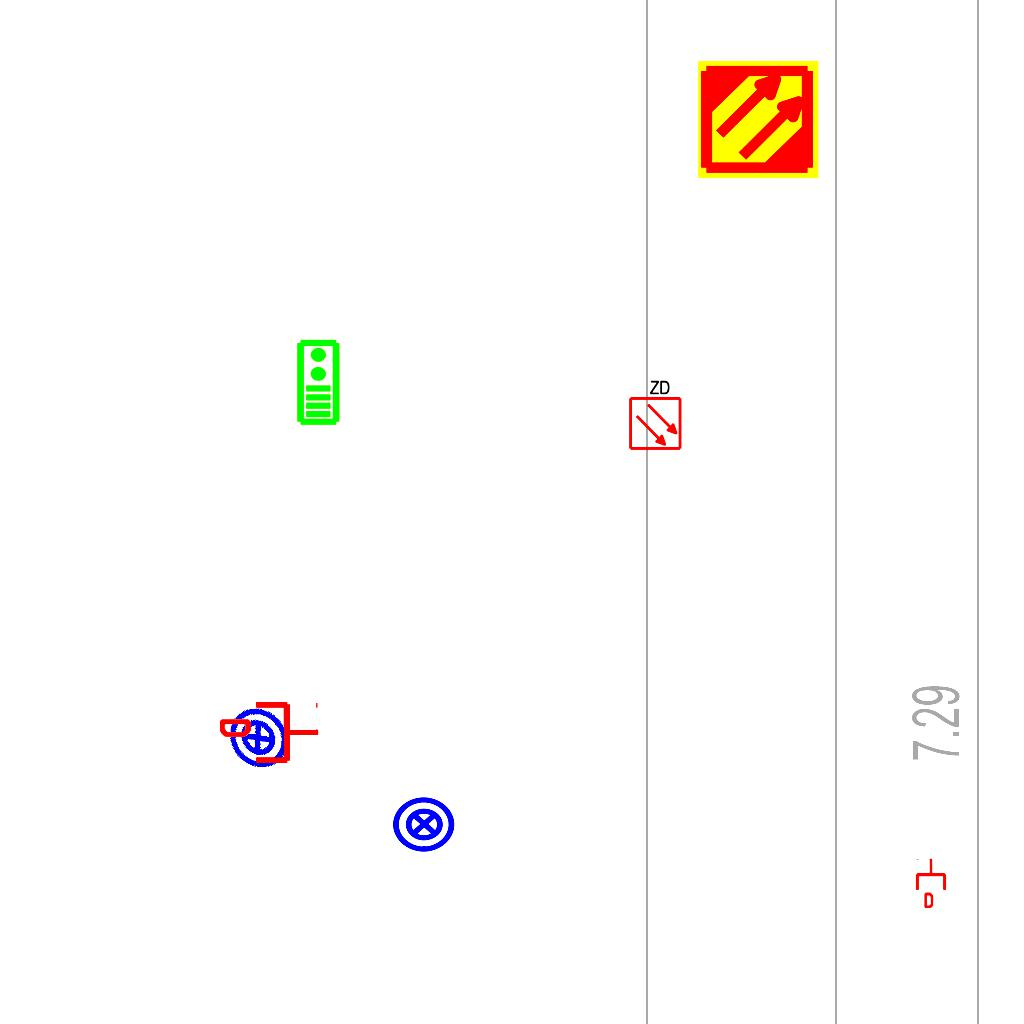ASR_Ansaugrauchmelder: (696, 57, 821, 182)
Datenanschluss_einfach: (220, 698, 320, 767), (914, 858, 948, 908)
Gegensprechanlage_mit_Video: (294, 338, 341, 426)
Taster_beleuchtet: (211, 691, 305, 785), (391, 791, 457, 857)
ZD_Melder_in_Zwischendecke_mit_Revisionsoeffnung_mind_40_x_40_cm: (626, 377, 683, 451)
